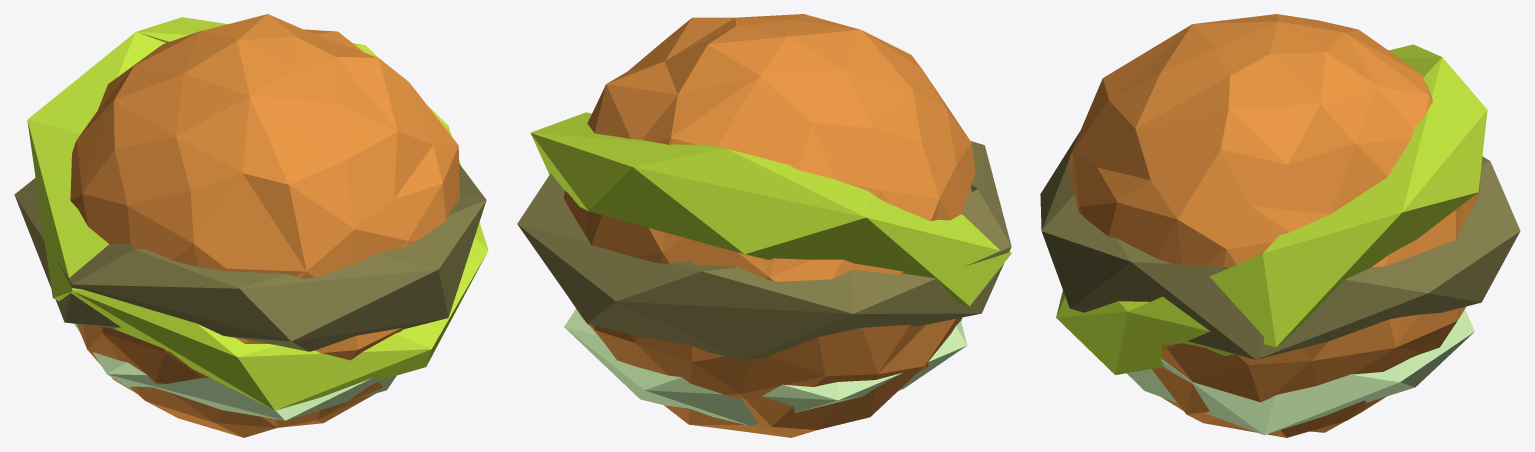
The model's file is ore_planet2.fbx.
3 renders of one model, left to right at view 1: azimuth 30°, elevation 25°; view 2: azimuth 150°, elevation 25°; view 3: azimuth 270°, elevation 25°, orthographic. The views are drawn at different scales.
Parts seen in each view (by area): view 1: ore_planet2; view 2: ore_planet2; view 3: ore_planet2.
Boxes of the visible parts, x1=… form: ore_planet2: x1=14, y1=14, x2=488, y2=437; ore_planet2: x1=517, y1=14, x2=1011, y2=437; ore_planet2: x1=1040, y1=14, x2=1520, y2=437.
Size of the model in its own units: 221 by 194 by 218.
